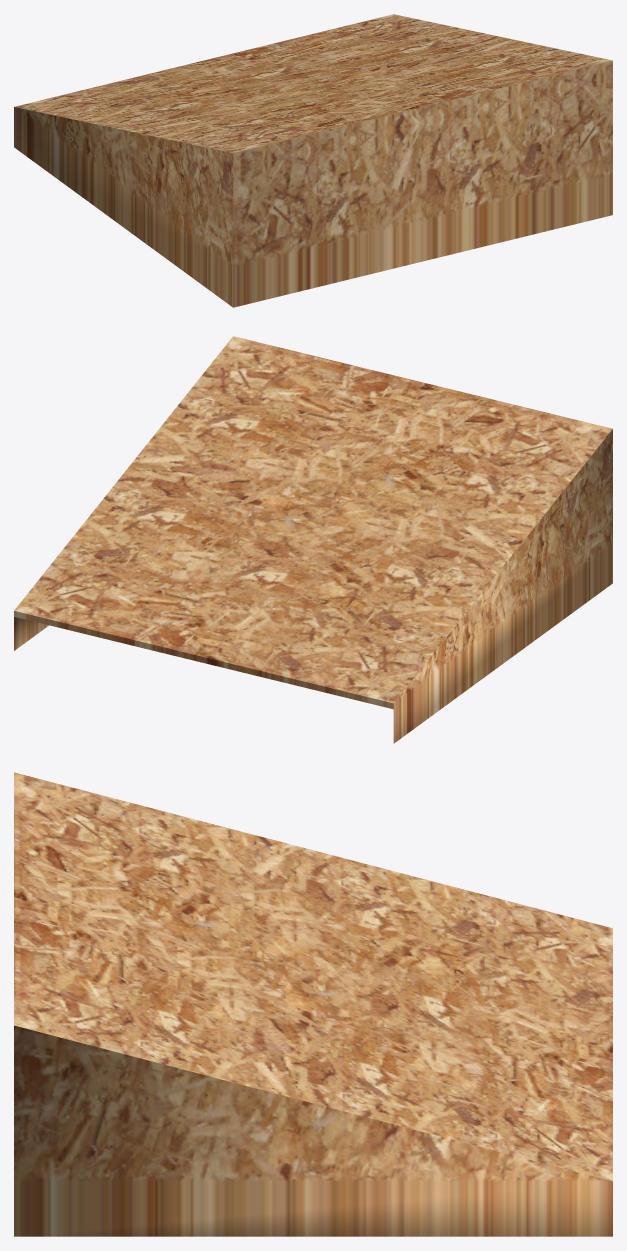
The model's file is full_ramp_full_elevated.dae.
3 views of the same model, one above another, from view 1: azimuth 30°, elevation 25°; view 2: azimuth 150°, elevation 25°; view 3: azimuth 270°, elevation 25° (orthographic). The views are drawn at different scales.
Visible parts, largest first — view 1: Plane; view 2: Plane; view 3: Plane.
Boxes of the visible parts, box(x1,y1,x2,y2) form: Plane: box(14, 14, 612, 307); Plane: box(14, 336, 612, 743); Plane: box(14, 772, 612, 1236).
Bounding box in the file's own units: 1.18 × 1.18 × 0.459.
1 material, 1 textured.
